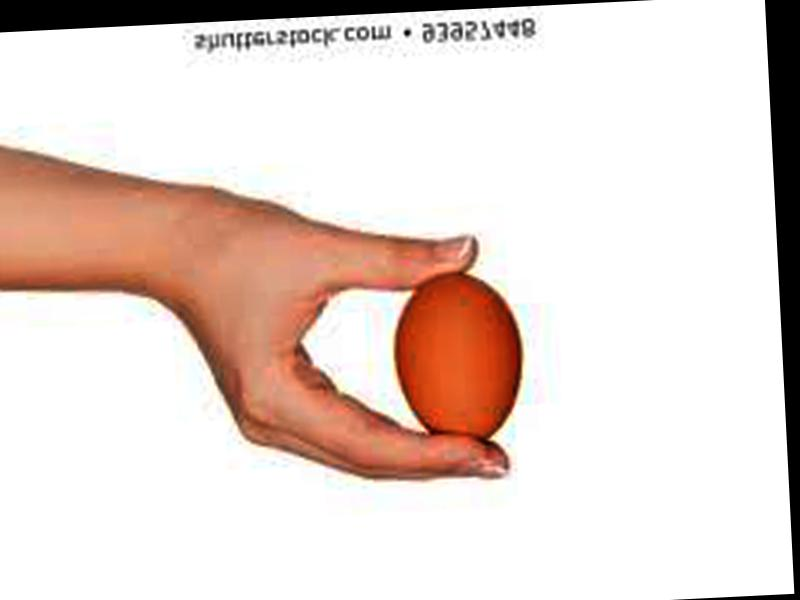Eggs: (393, 268, 525, 454)
